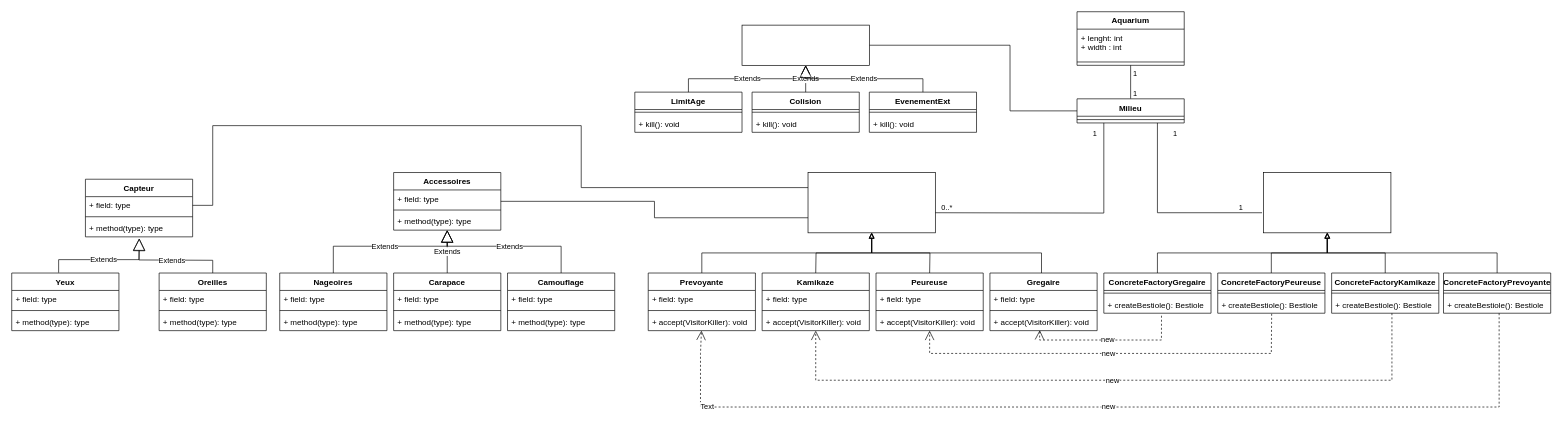
Some shapes in this 1562 by 428 pixel diagram are drawn without their labels. The shapes that lost their labels are listed below. From the top down, each one's centre as x and y in pixels, then its label:
At (805,44): "<<Interface>> VisitorKiller".
At (871,202): "<<Interface>> Bestiole".
At (1327,202): "<<Interface>> Factory + createBestiole(): Bestiole".
